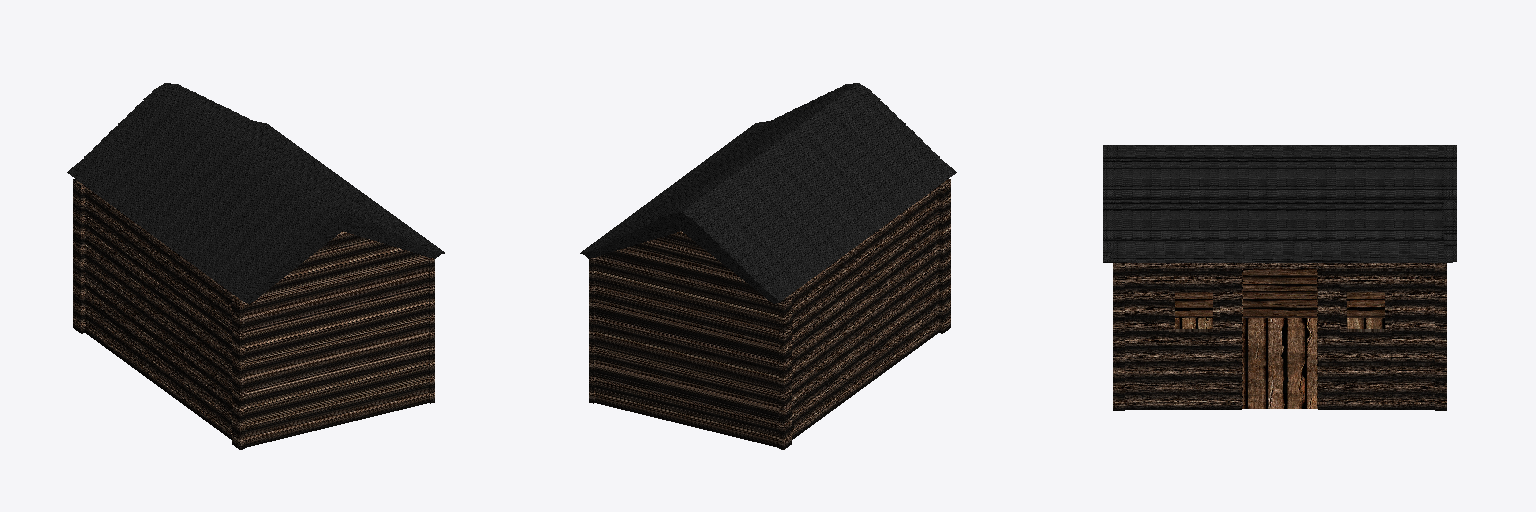
3 views of the same model, side by side, from view 1: azimuth 30°, elevation 25°; view 2: azimuth 150°, elevation 25°; view 3: azimuth 270°, elevation 25° (orthographic).
Parts seen in each view (by area): view 1: ShedOutside.001, Roof.001; view 2: ShedOutside.001, Roof.001; view 3: Roof.001, ShedOutside.001, InsideShed.001.
Boxes of the visible parts, <box> form: ShedOutside.001: <box>73,179,434,449</box>; Roof.001: <box>67,83,444,303</box>; ShedOutside.001: <box>589,179,950,449</box>; Roof.001: <box>580,83,956,303</box>; Roof.001: <box>1103,145,1456,262</box>; ShedOutside.001: <box>1113,263,1446,410</box>; InsideShed.001: <box>1175,269,1384,408</box>.
Size of the model in its own units: 6.1 by 6.29 by 9.28.
4 materials, 3 textured.